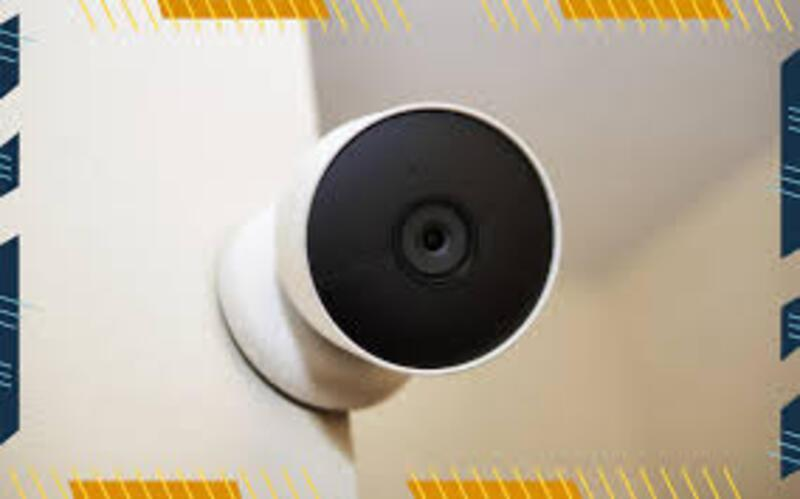nest: (278, 99, 560, 380)
